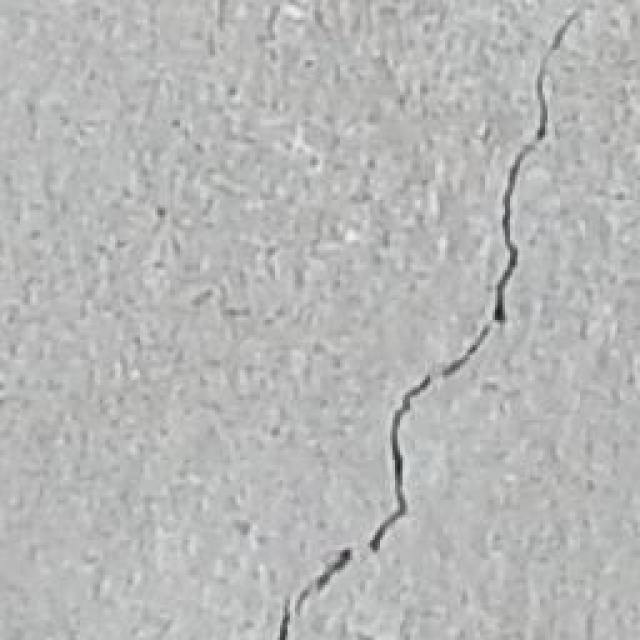concrete-crack: (270, 0, 591, 640)
